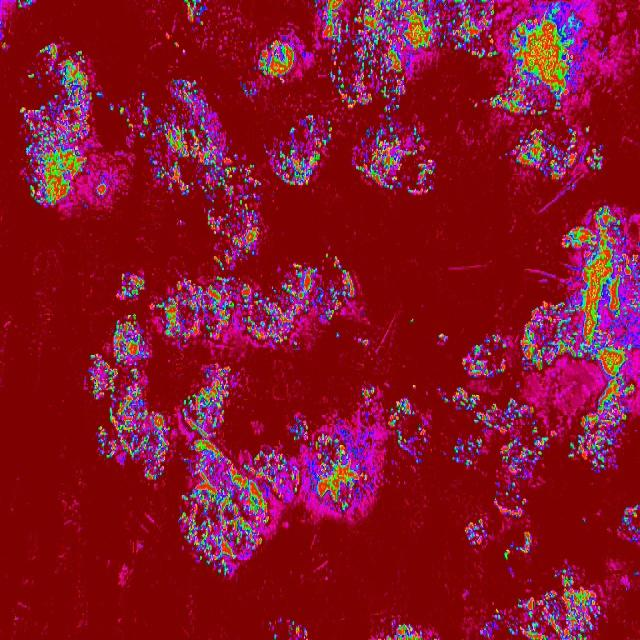fire: (177, 440, 264, 576), (564, 208, 640, 360), (502, 0, 586, 118), (152, 76, 224, 203), (165, 275, 286, 349), (351, 0, 498, 60), (19, 102, 90, 203), (354, 116, 436, 199), (108, 314, 146, 465), (304, 433, 370, 512), (504, 590, 604, 640), (570, 394, 628, 474), (272, 111, 332, 185), (328, 61, 407, 111), (203, 202, 262, 268), (182, 364, 232, 440), (507, 127, 578, 177), (520, 300, 564, 372), (40, 41, 92, 101), (288, 259, 322, 333), (462, 334, 509, 380), (501, 434, 548, 480), (144, 408, 172, 482), (482, 398, 538, 434), (223, 148, 260, 202), (256, 35, 298, 81), (264, 452, 303, 500), (313, 0, 344, 60), (322, 270, 356, 320), (598, 360, 636, 394), (492, 482, 526, 518), (450, 386, 480, 425), (448, 434, 482, 468), (501, 532, 534, 564), (86, 352, 107, 399), (384, 396, 416, 426), (464, 516, 492, 550), (619, 503, 640, 542), (115, 272, 143, 300), (387, 620, 426, 640), (480, 612, 502, 638), (183, 0, 204, 26), (584, 145, 602, 175), (139, 92, 150, 140), (286, 619, 310, 640), (290, 417, 308, 442), (95, 423, 108, 457), (554, 567, 574, 587), (486, 92, 502, 112), (358, 386, 374, 406), (240, 82, 258, 99), (393, 430, 408, 450), (262, 502, 272, 528), (416, 426, 429, 446), (95, 178, 108, 197), (124, 114, 135, 134), (331, 256, 344, 270), (15, 0, 31, 10), (358, 337, 370, 348), (155, 300, 163, 314), (343, 22, 350, 38), (582, 124, 592, 134), (414, 457, 424, 467), (438, 334, 448, 344), (1, 38, 8, 51), (27, 70, 36, 80), (439, 394, 447, 405), (334, 330, 342, 340), (173, 40, 181, 50), (118, 106, 126, 115), (632, 570, 640, 578), (410, 383, 418, 391), (95, 90, 102, 99), (473, 101, 479, 111), (324, 251, 330, 261), (408, 316, 414, 326), (109, 105, 115, 114), (271, 632, 277, 640), (581, 516, 587, 523)
